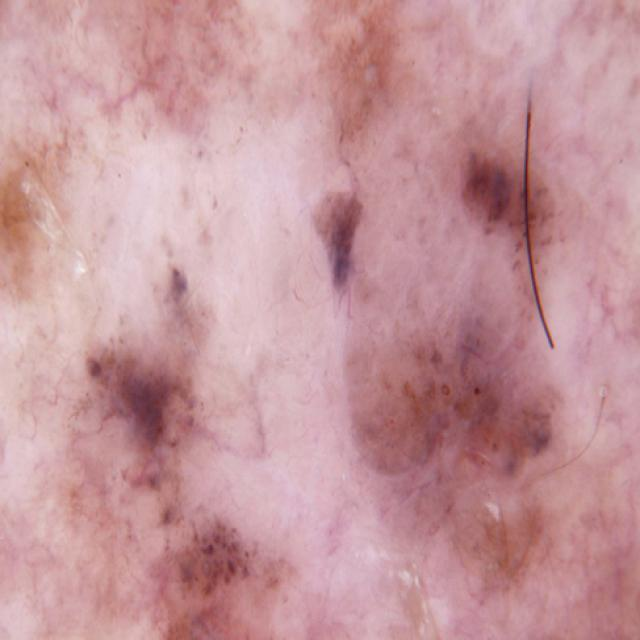Carcinoma: (324, 133, 569, 620), (68, 250, 321, 640)
